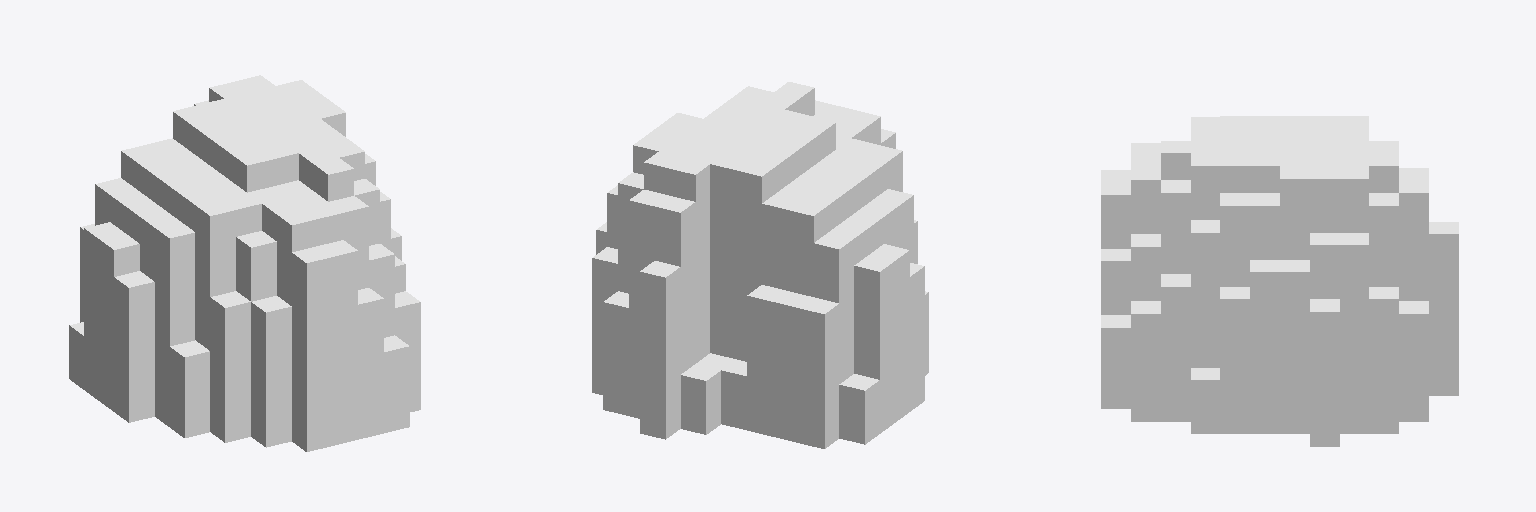
File: JohnTheRock.obj
3 renders of one model, left to right at view 1: azimuth 30°, elevation 25°; view 2: azimuth 150°, elevation 25°; view 3: azimuth 270°, elevation 25°, orthographic.
Visible parts, largest first — view 1: object 1; view 2: object 1; view 3: object 1.
Part boxes in pixels (bbox=[...]): object 1: bbox=[69, 75, 420, 451]; object 1: bbox=[592, 82, 928, 448]; object 1: bbox=[1101, 116, 1458, 446].
Bounding box in the file's own units: 1.1 × 0.9 × 1.2.